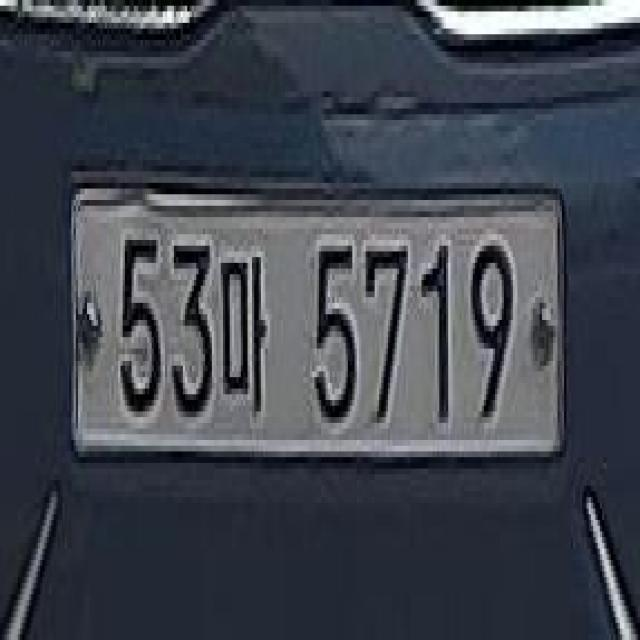1: (416, 224, 460, 446)
3: (170, 225, 216, 435)
5: (114, 223, 166, 432), (310, 230, 360, 437)
7: (362, 232, 413, 428)
9: (464, 224, 522, 426)
license_plate: (63, 152, 583, 486)
ma: (215, 238, 272, 440)
